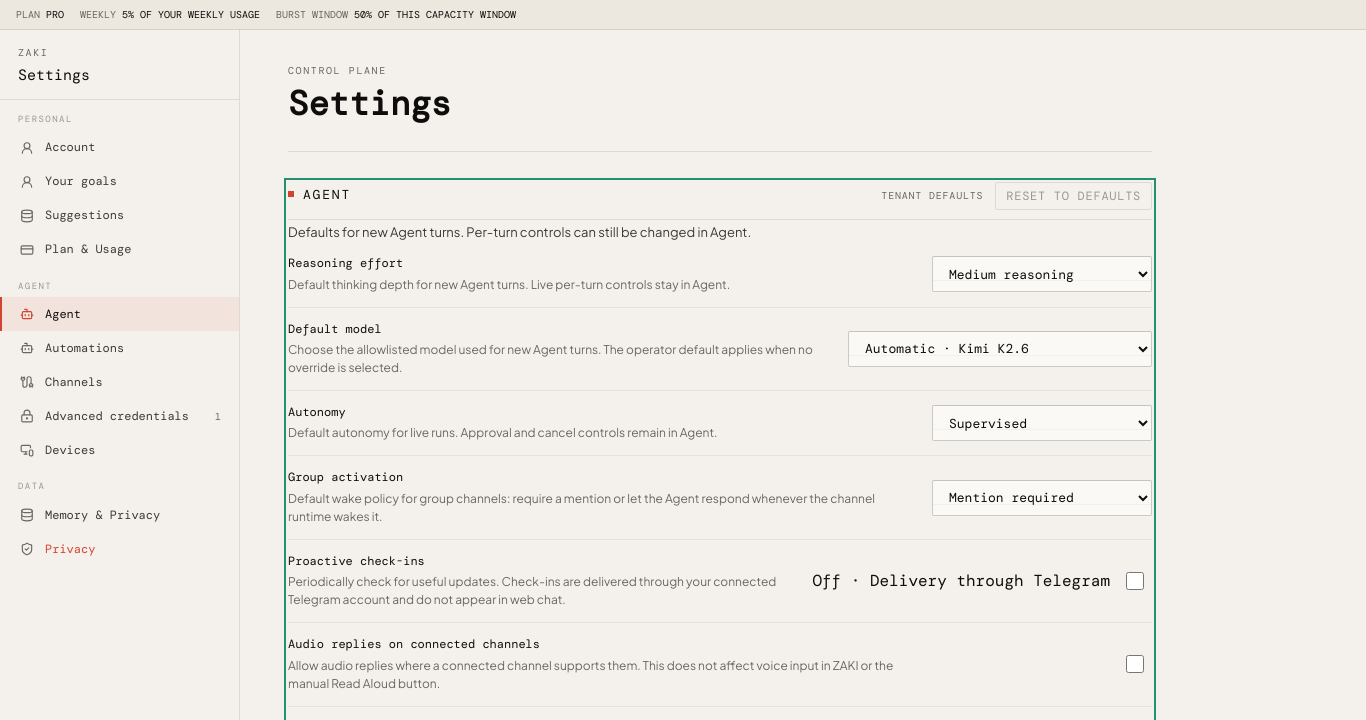
Test: SettingsPage › restores Agent tenant defaults from the header Reset to defaults action
Expected: the button with test id "settings-agent-reset" is disabled, [995,182,1152,210]
Move a control off-default to enable the reset affordance.
Select "Read only" in the dropdown named "Autonomy". click: (1042,423)
box: [932,405,1152,441]
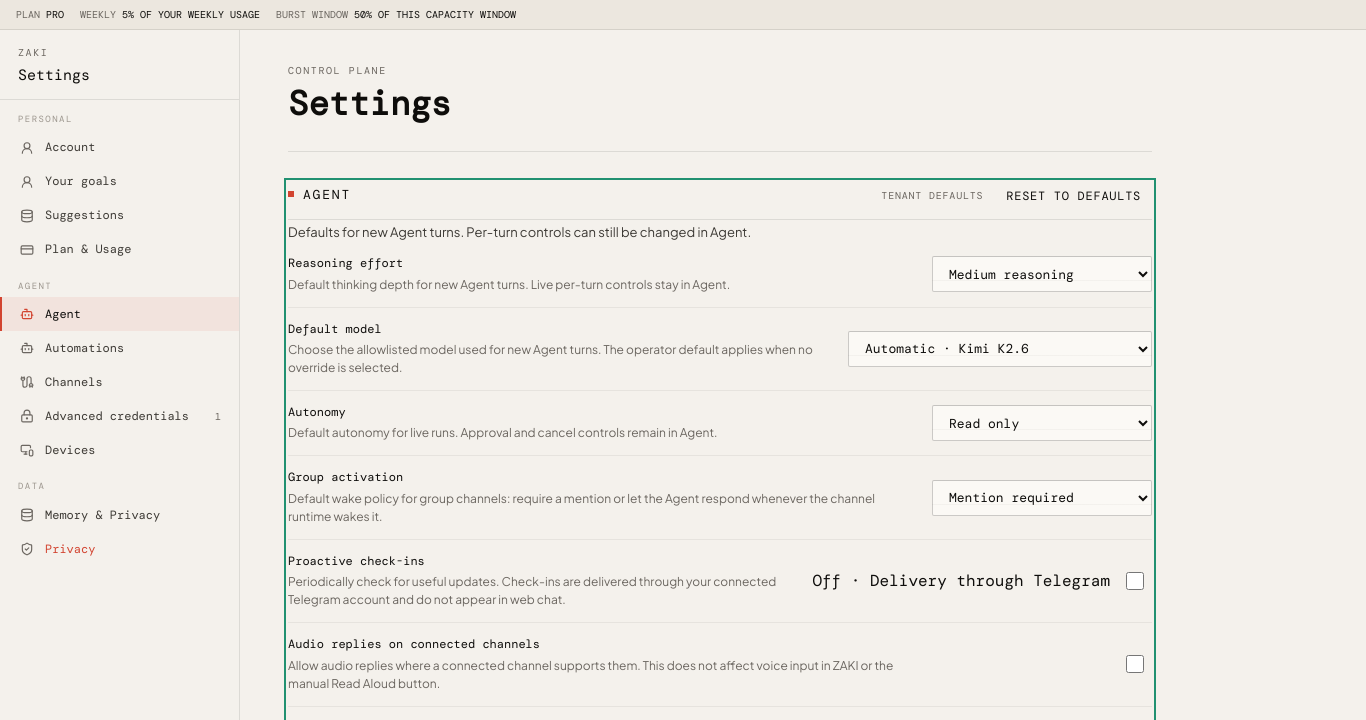
Expected: the button with test id "settings-agent-reset" is enabled
Click the button with test id "settings-agent-reset". click: (1074,196)
box: [995,182,1152,210]
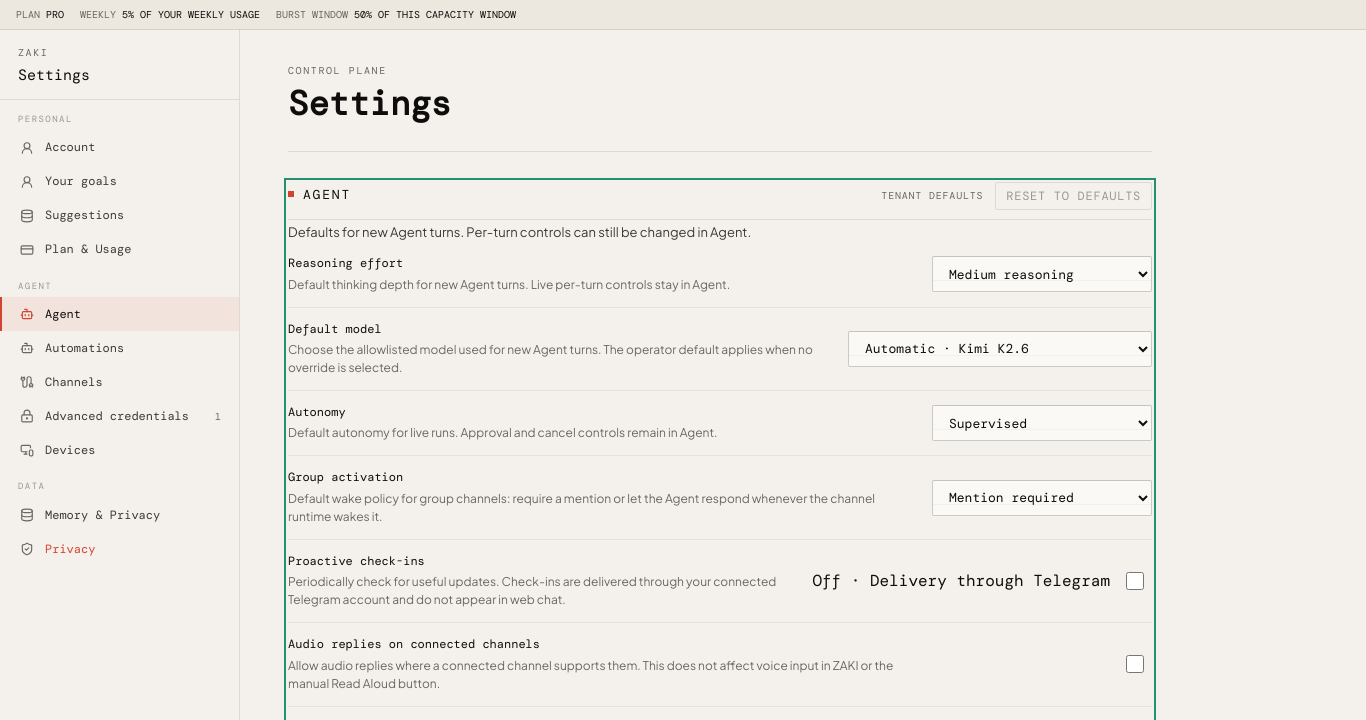
Expected: the button with test id "settings-agent-reset" is disabled, [995,182,1152,210]
